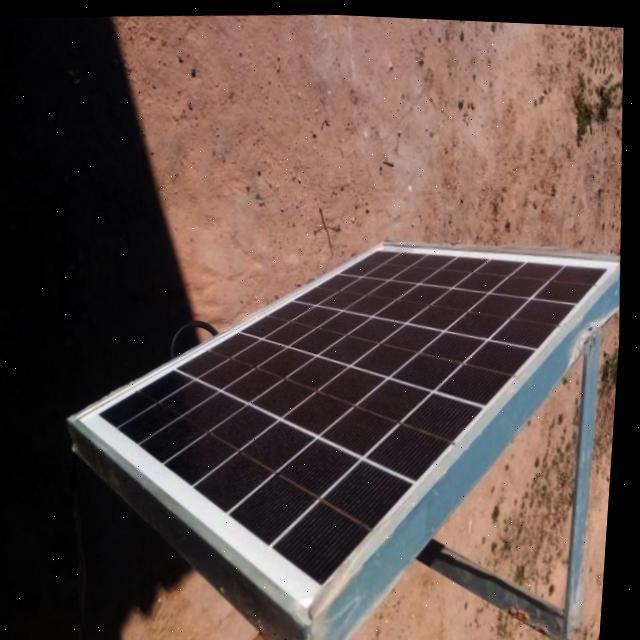Normal Solar Panel: (56, 210, 630, 640)
